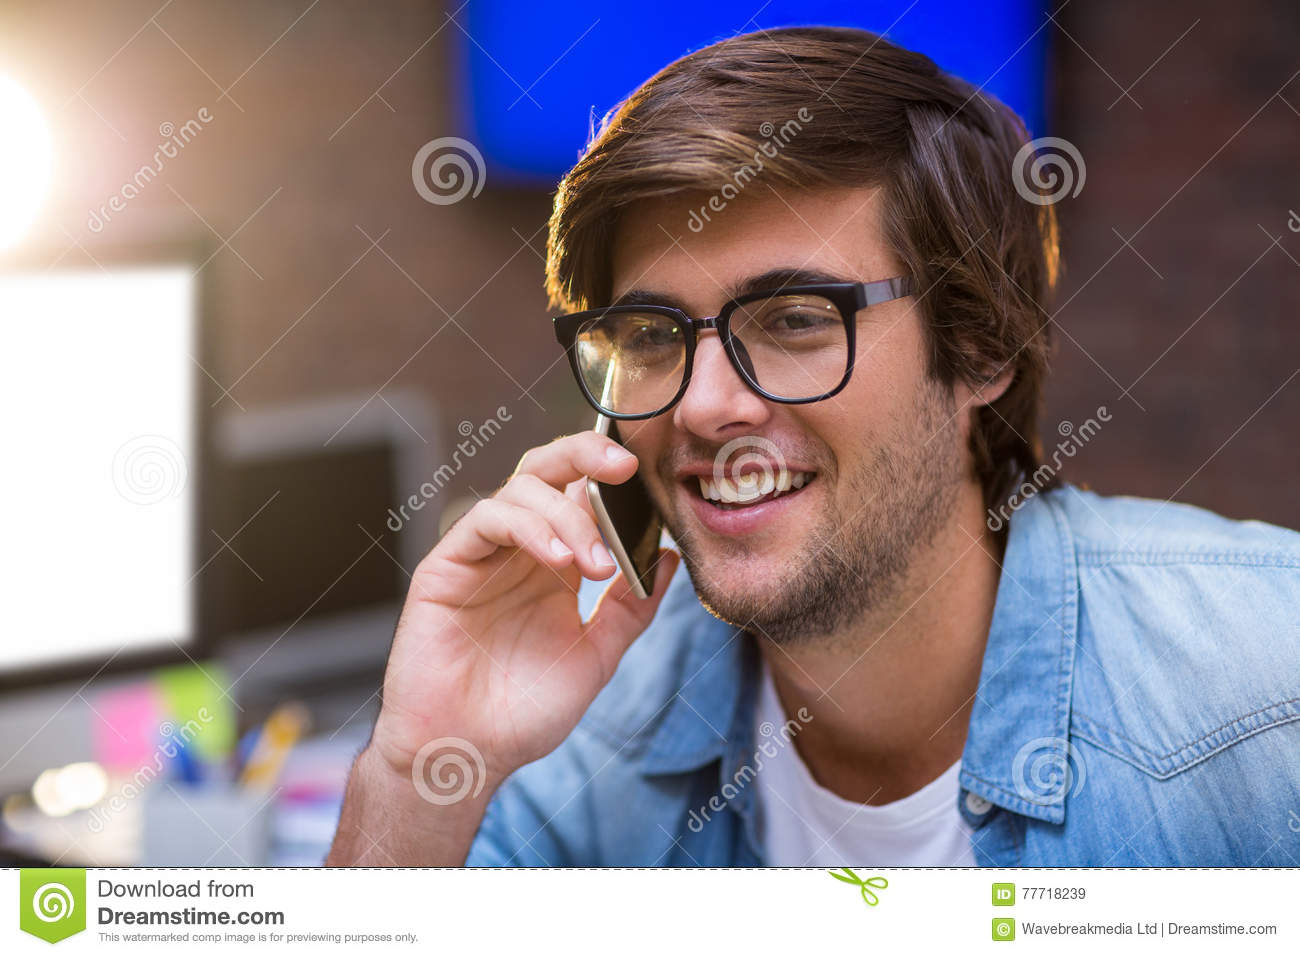phone: (578, 337, 668, 615)
talk: (376, 258, 865, 816)
